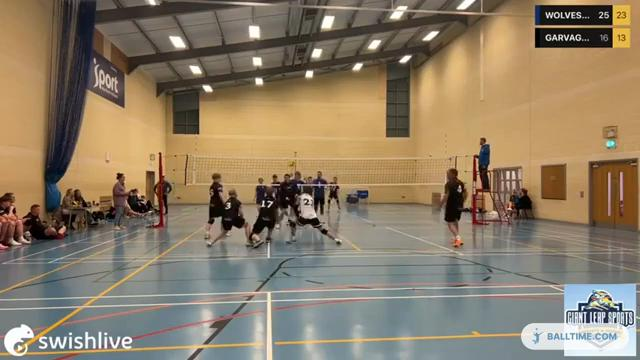Player: (207, 189, 258, 246), (440, 168, 466, 246), (250, 187, 277, 247), (205, 173, 225, 239), (276, 174, 292, 227), (289, 171, 304, 218), (312, 171, 326, 214), (328, 177, 340, 211), (254, 177, 266, 208), (271, 174, 279, 217), (271, 174, 279, 197)
Receive: (285, 186, 343, 245)
ball: (286, 159, 297, 169)
